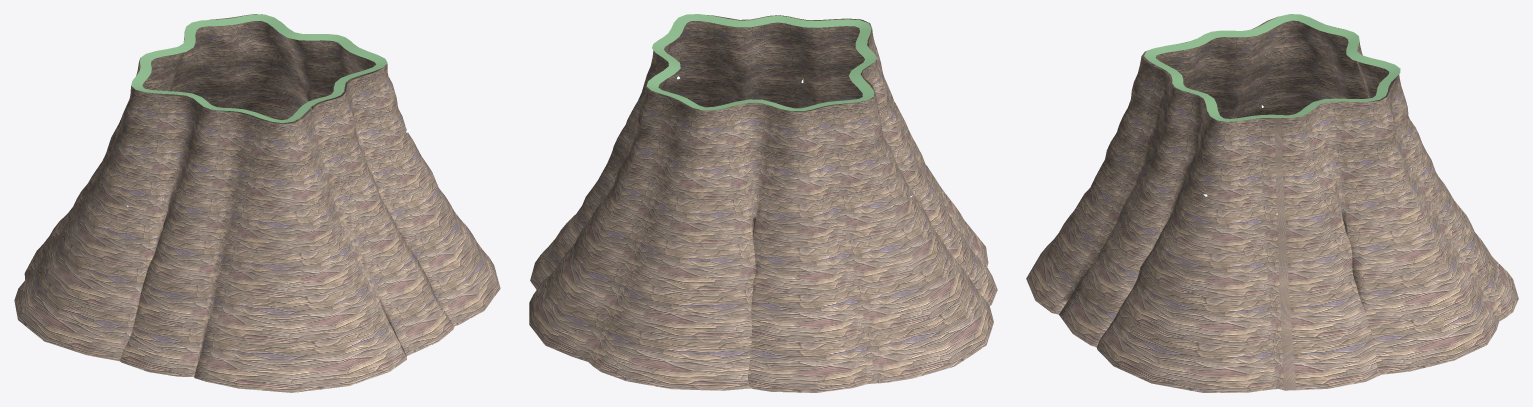
Rendered from CliffWall_stack_06.glb.
3 renders of one model, left to right at view 1: azimuth 30°, elevation 25°; view 2: azimuth 150°, elevation 25°; view 3: azimuth 270°, elevation 25°, orthographic. The views are drawn at different scales.
Parts seen in each view (by area): view 1: CliffWall_stack_06-rock0, CliffWall_stack_06-lip0; view 2: CliffWall_stack_06-rock0, CliffWall_stack_06-lip0; view 3: CliffWall_stack_06-rock0, CliffWall_stack_06-lip0.
Part boxes in pixels (x1,y1,x2,y2): CliffWall_stack_06-rock0: (14, 14, 500, 392); CliffWall_stack_06-lip0: (131, 14, 387, 123); CliffWall_stack_06-rock0: (529, 15, 997, 392); CliffWall_stack_06-lip0: (646, 14, 876, 111); CliffWall_stack_06-rock0: (1026, 16, 1518, 392); CliffWall_stack_06-lip0: (1144, 14, 1400, 121).
Bounding box in the file's own units: 369 × 188 × 376.
Materials: 4 (1 with a texture image).
